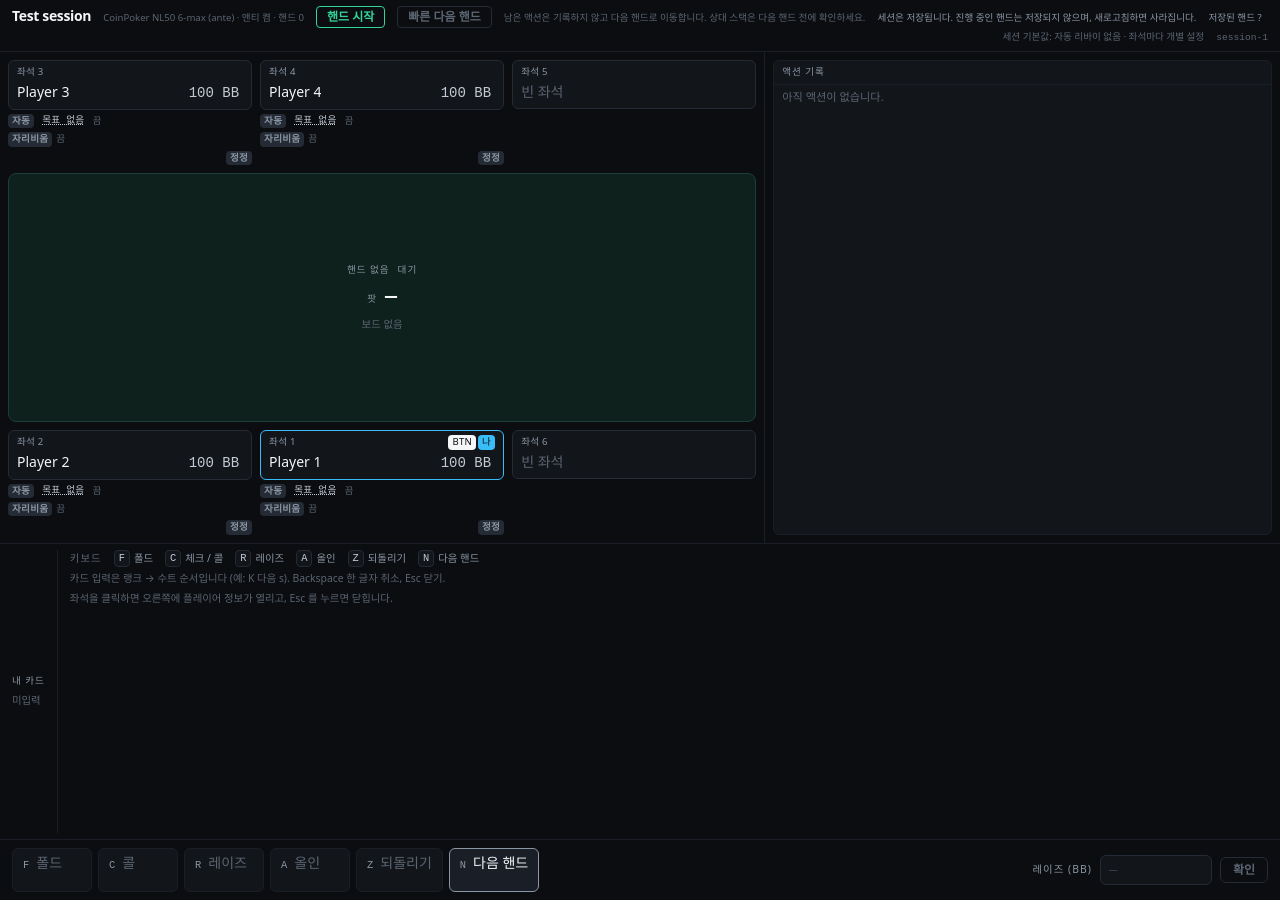
Scenario: TableRoot › Esc in the raise editor closes the editor only, and leaves the profile open
Click the button with test id "start-hand" at (351, 17), box top-left (316, 6), bottom-right (385, 28)
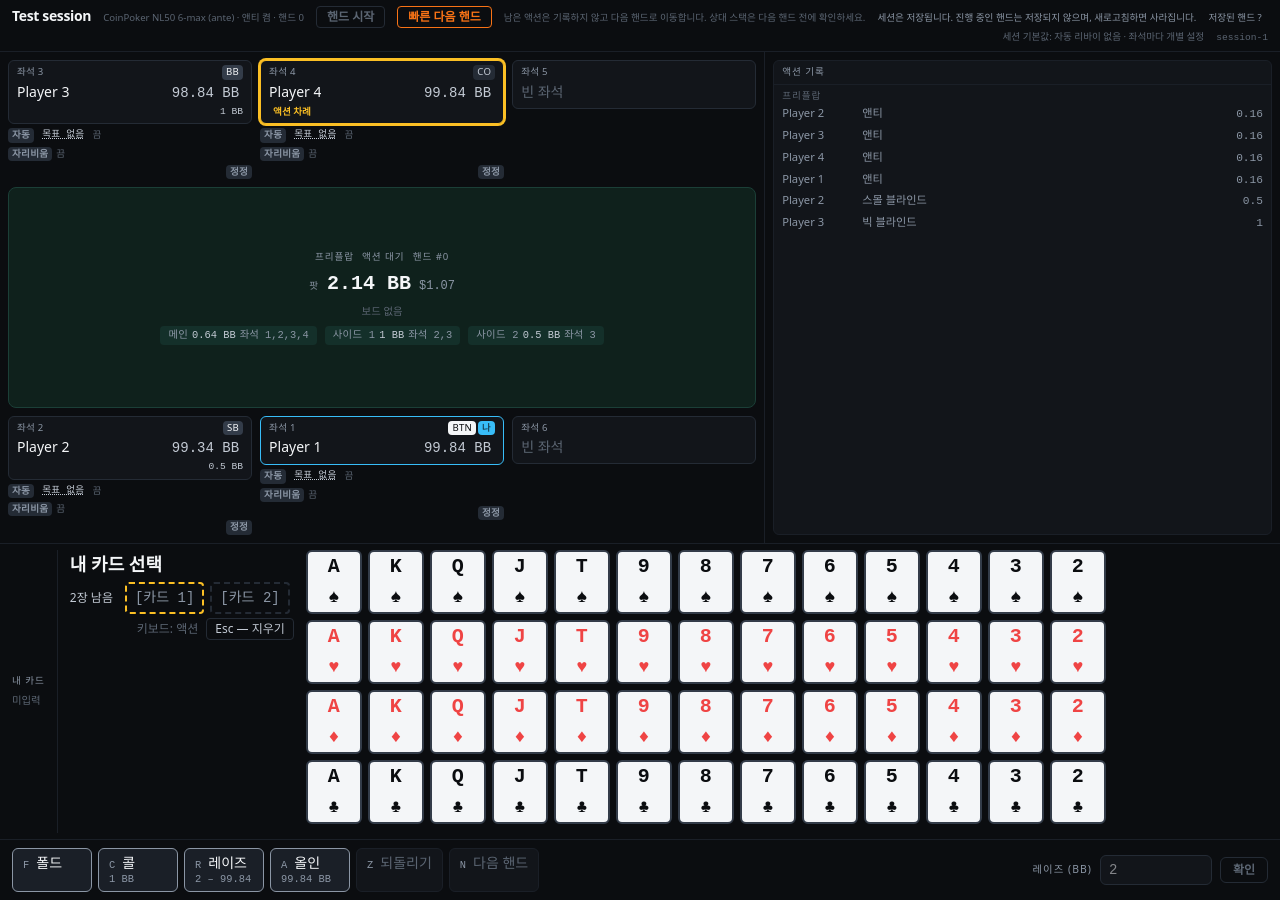
Click the button with test id "seat-1" at (130, 448), box top-left (8, 416), bottom-right (252, 480)
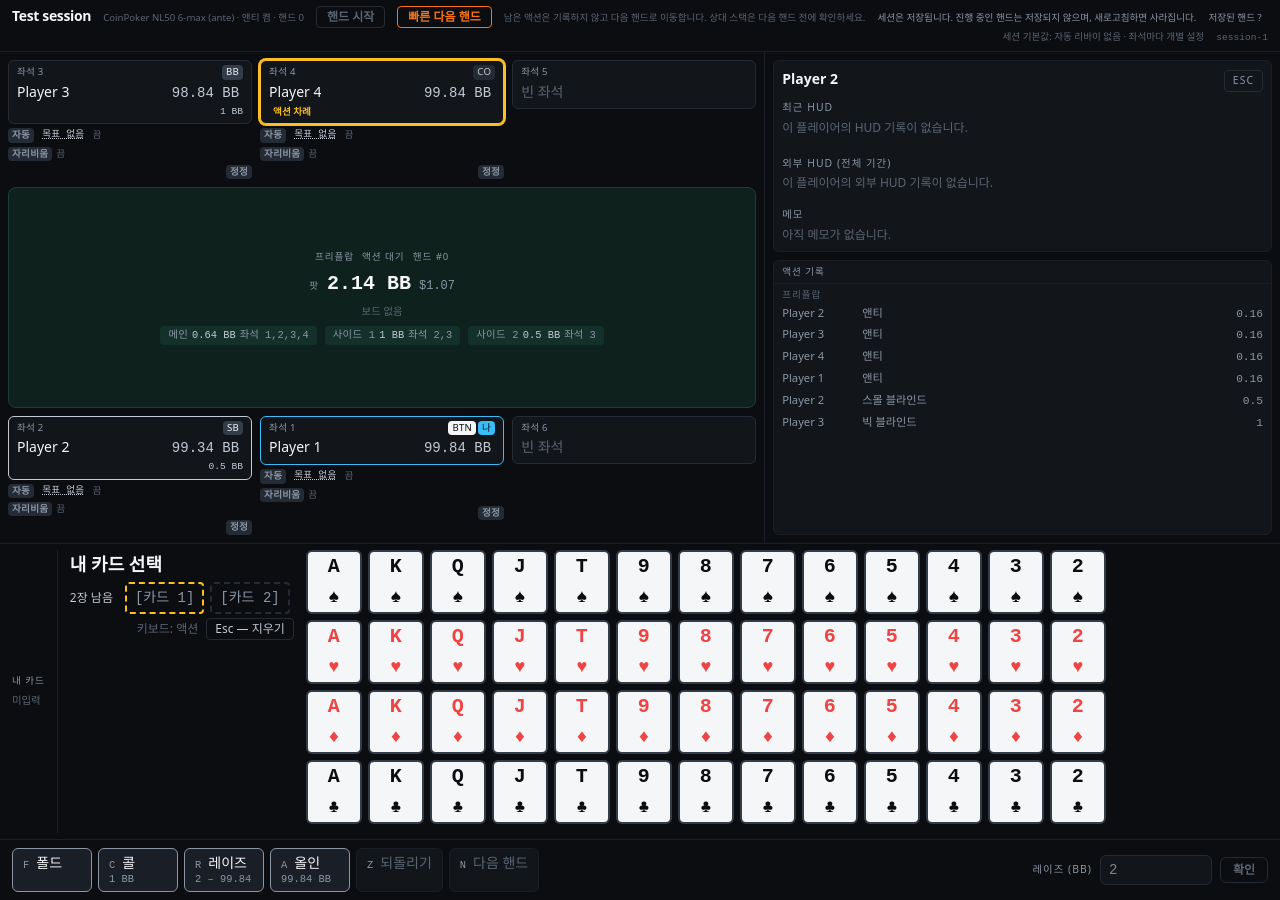
Result: the element with test id "player-profile" is shown at top-left (782, 69), bottom-right (1263, 243)
Click the field with test id "raise-input" at (1156, 870), box top-left (1100, 855), bottom-right (1212, 885)
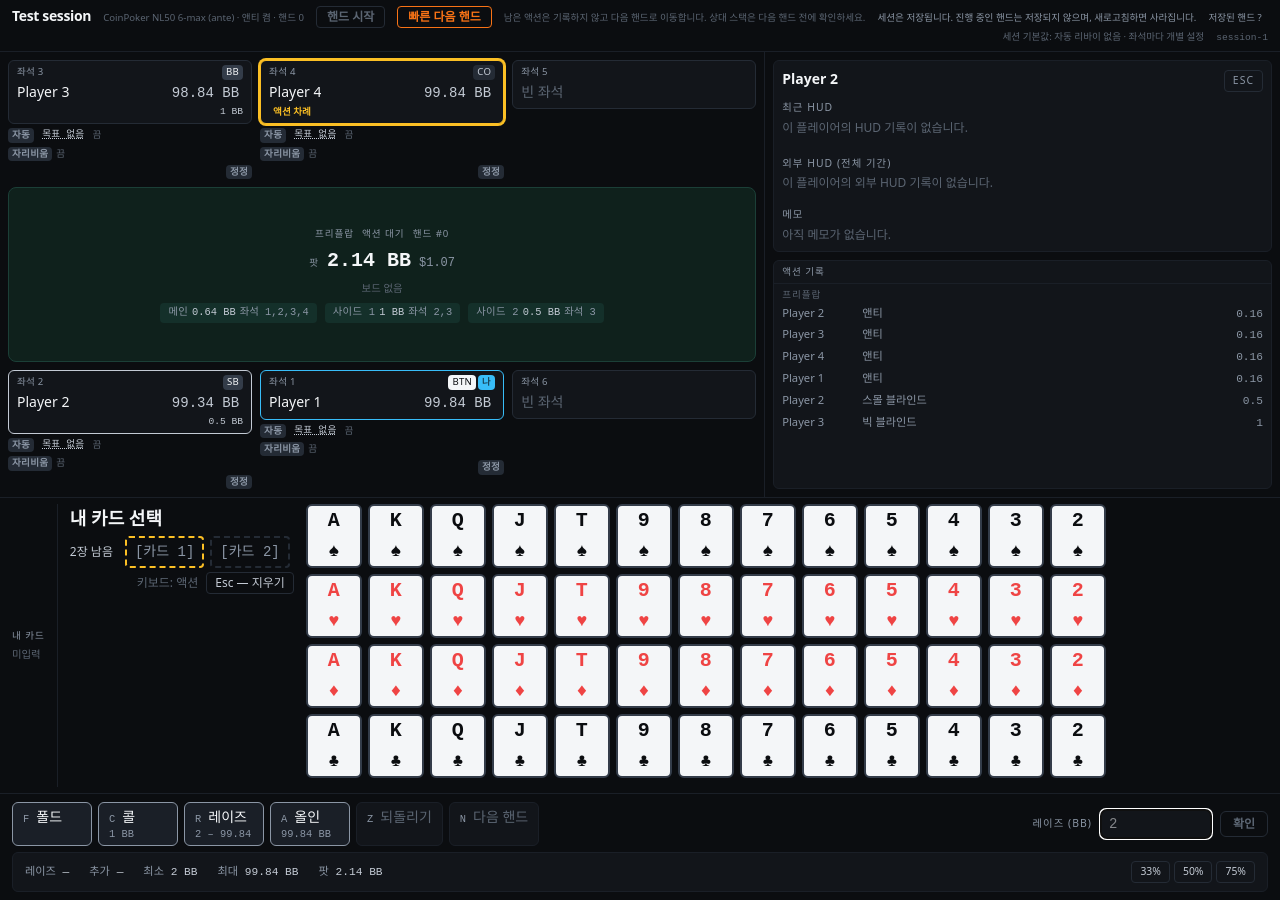
Type keys "9"
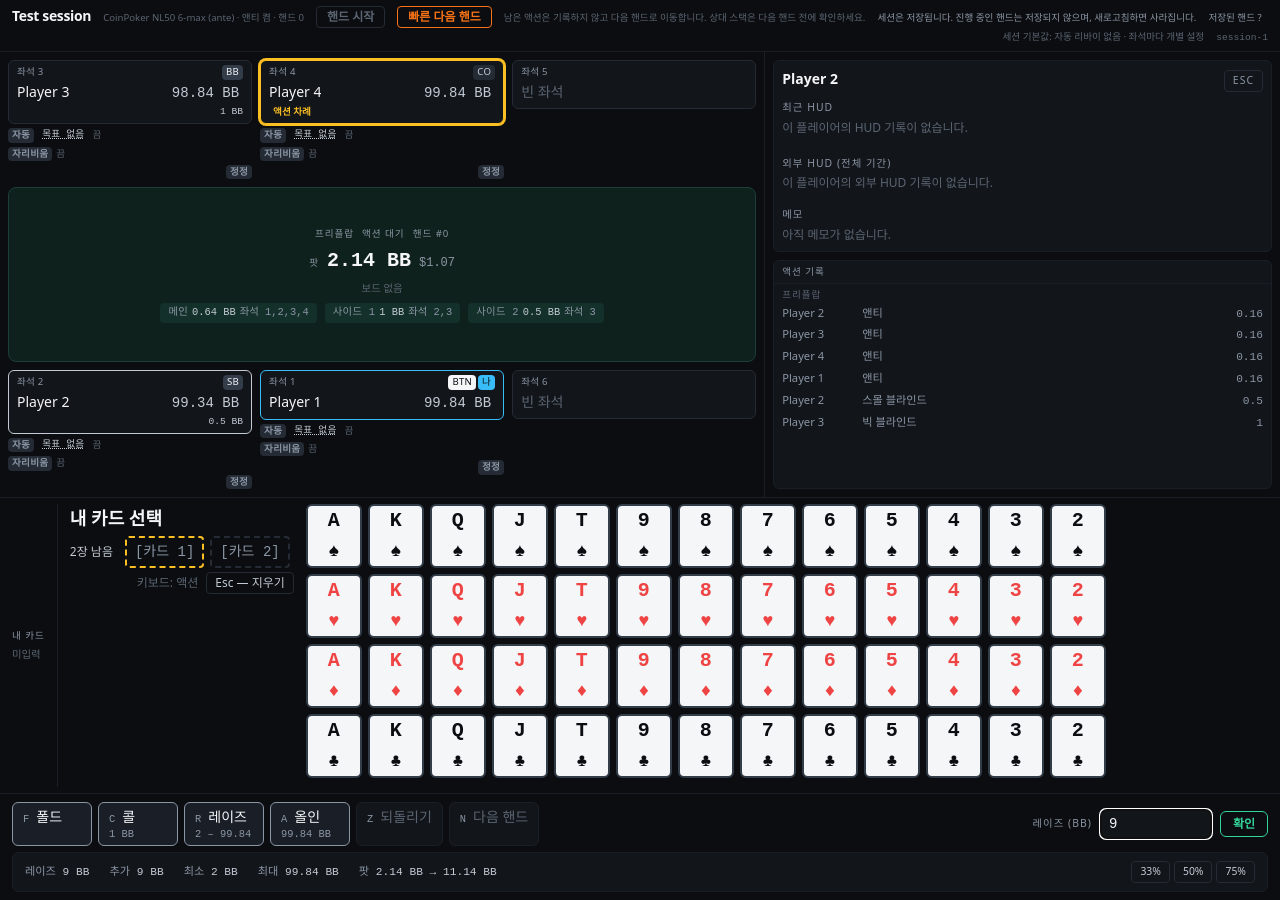
Result: the element with test id "raise-panel" is shown at top-left (12, 852), bottom-right (1268, 892)
Press Escape
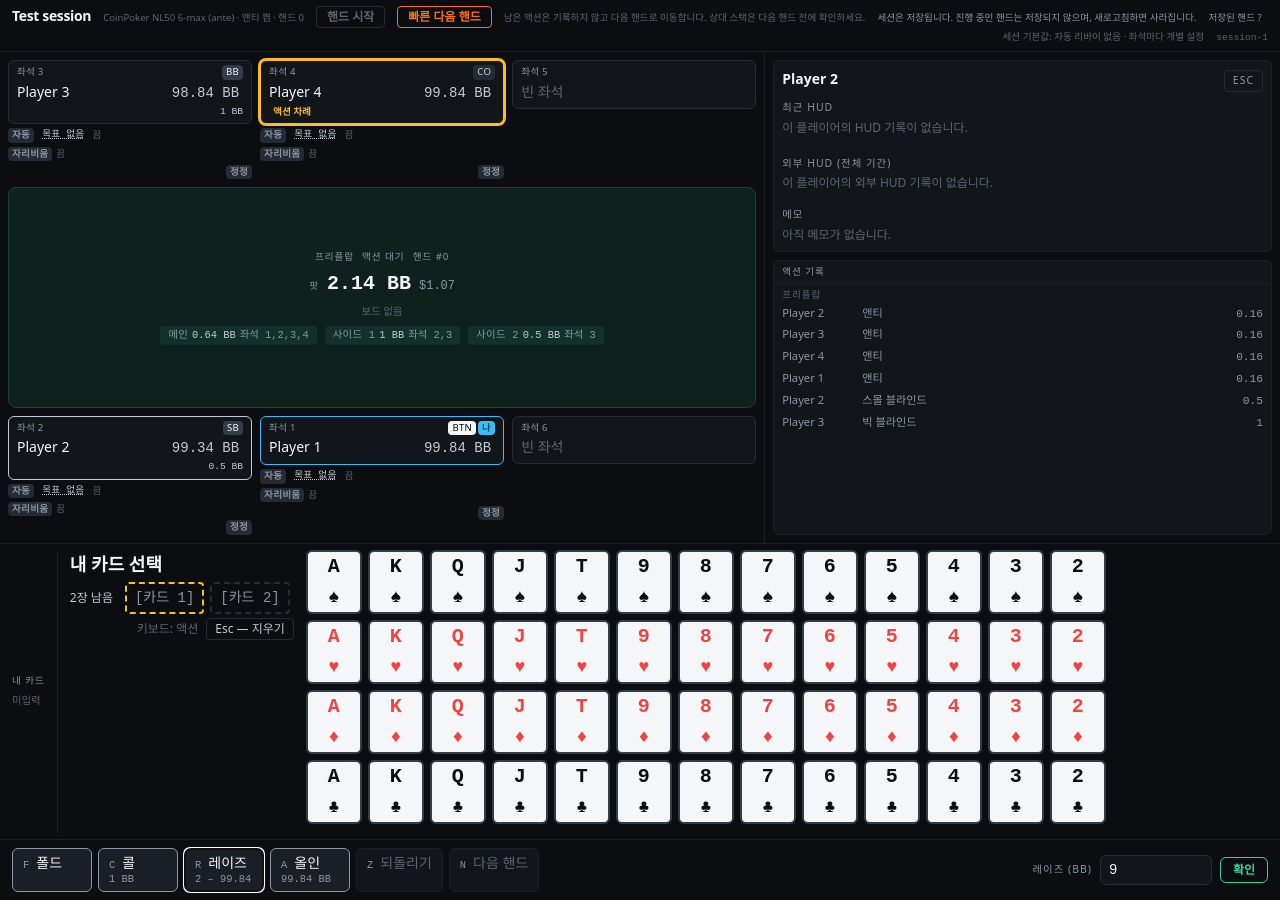
Result: the field with test id "raise-input" holds "9" at top-left (1100, 855), bottom-right (1212, 885)
Result: the element with test id "player-profile" is shown at top-left (782, 69), bottom-right (1263, 243)
Result: the element with test id "raise-panel" is gone
